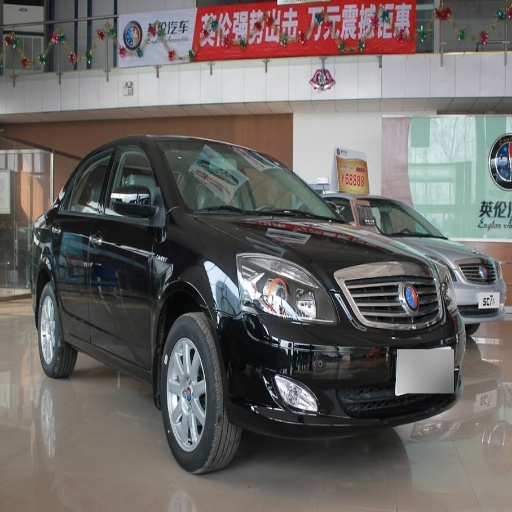front_bumper: (219, 265, 479, 437)
front_right_door: (90, 140, 160, 359)
front_right_light: (229, 251, 334, 322)
